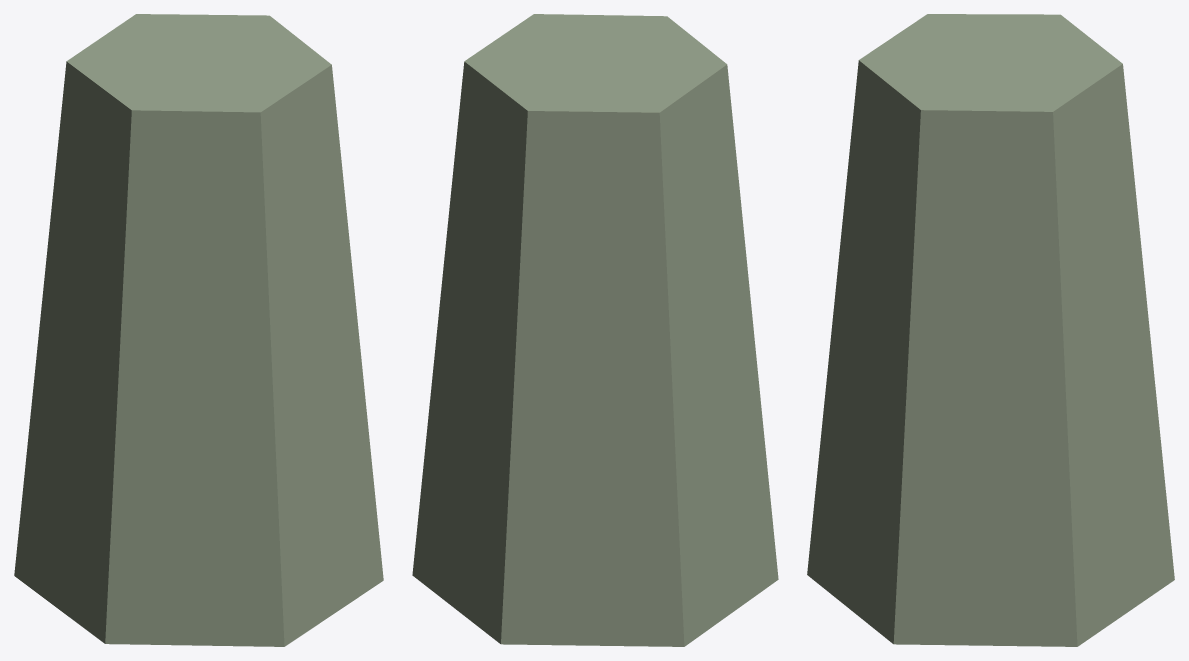
Rendered from 03_Roche_04_v001.fbx.
The picture shows the model from 3 angles, left to right: view 1: azimuth 30°, elevation 25°; view 2: azimuth 150°, elevation 25°; view 3: azimuth 270°, elevation 25°; orthographic projection.
Visible parts, largest first — view 1: Roche_04; view 2: Roche_04; view 3: Roche_04.
Boxes of the visible parts, x1,y1,x2,y2 form: Roche_04: (14, 14, 383, 646); Roche_04: (412, 14, 778, 646); Roche_04: (807, 14, 1174, 646).
Size of the model in its own units: 1.75 by 3.09 by 2.
